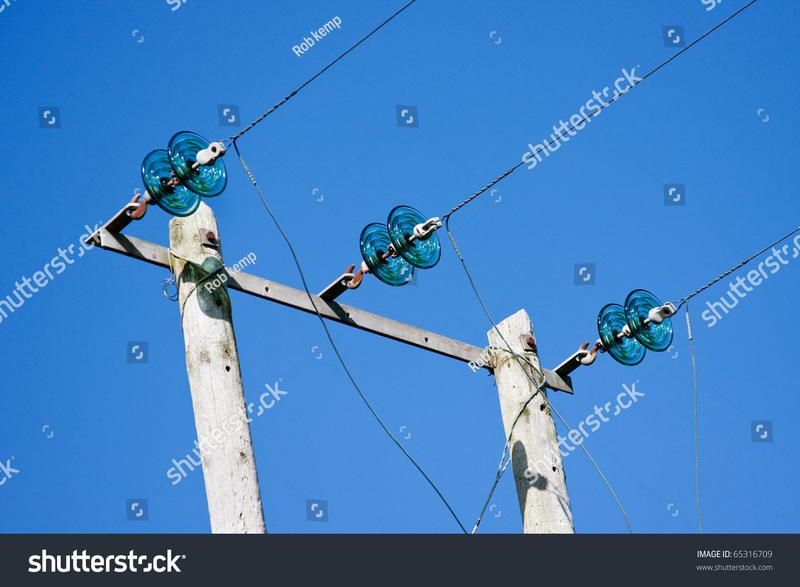isolator: (139, 129, 229, 216), (357, 204, 442, 287), (596, 289, 675, 366)
